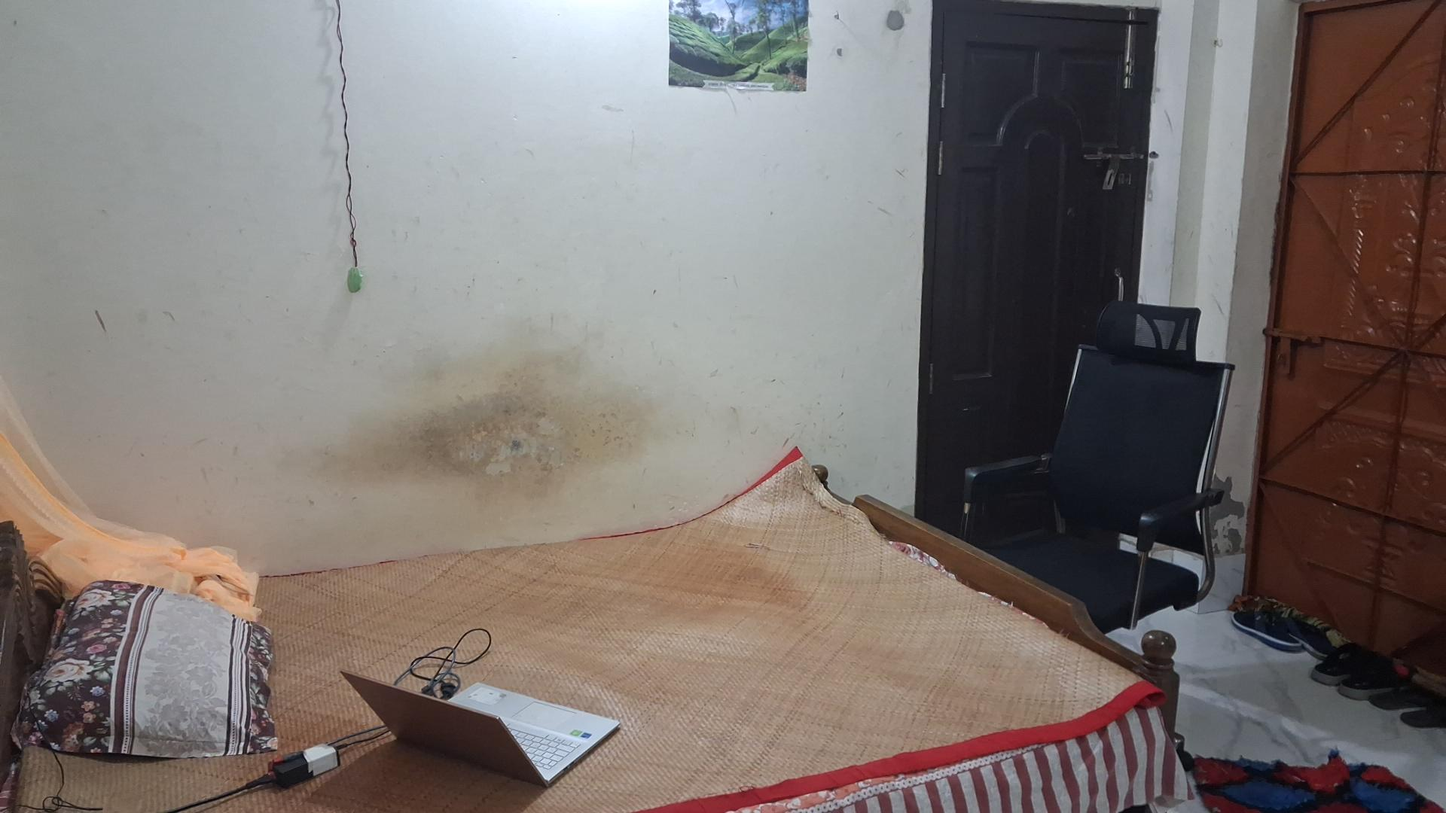Chair: (962, 343, 1237, 631)
Floor Mat: (1186, 733, 1443, 813)
Footwear: (1228, 606, 1339, 655), (1304, 648, 1423, 693)
Laptop: (339, 669, 623, 789)
Photo: (664, 8, 818, 93)
Pillow: (21, 579, 275, 761)
